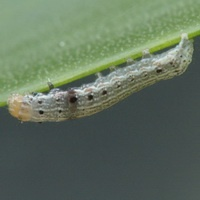insect: (8, 33, 192, 121)
